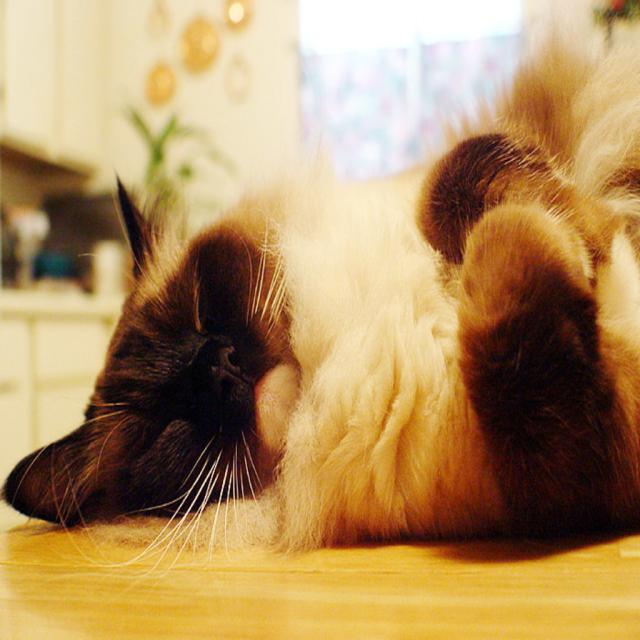Cat: (0, 0, 639, 601)
